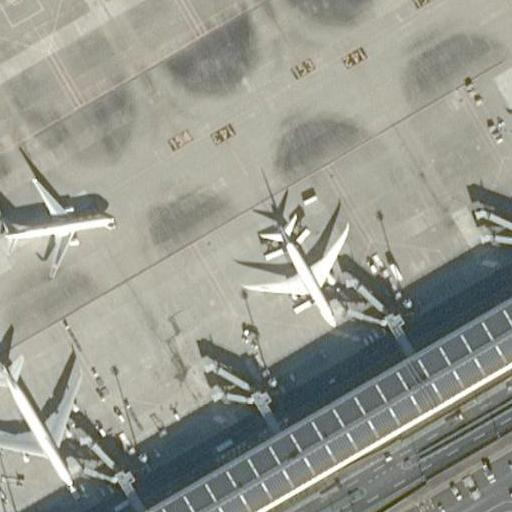Aircraft: (233, 200, 354, 329), (0, 340, 85, 494), (0, 160, 118, 270), (499, 43, 512, 178)
